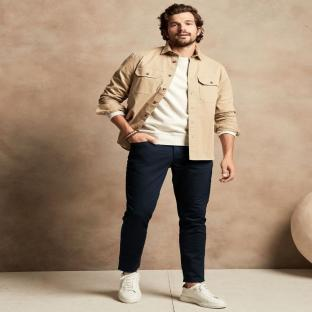Human: (96, 4, 240, 308)
